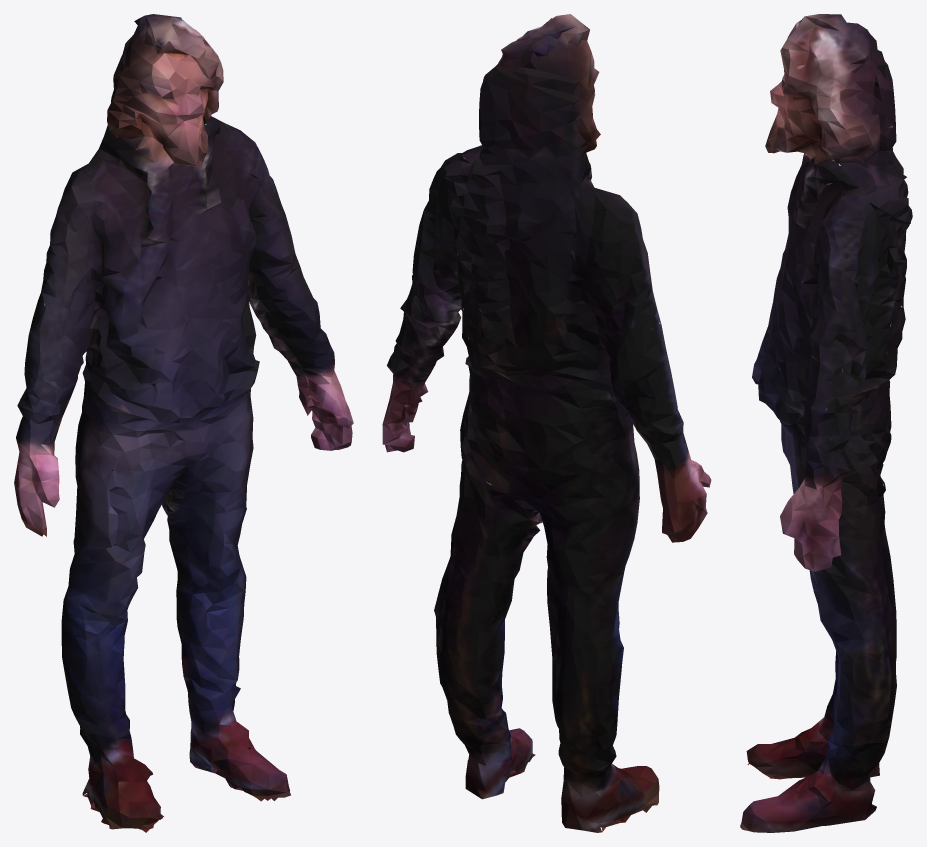
Rendered from Michal_Low_Poly_alligned.obj.
3 renders of one model, left to right at view 1: azimuth 30°, elevation 25°; view 2: azimuth 150°, elevation 25°; view 3: azimuth 270°, elevation 25°, orthographic.
Size of the model in its own units: 0.7785 by 1.79 by 0.3585.
Materials: 1 (1 with a texture image).
